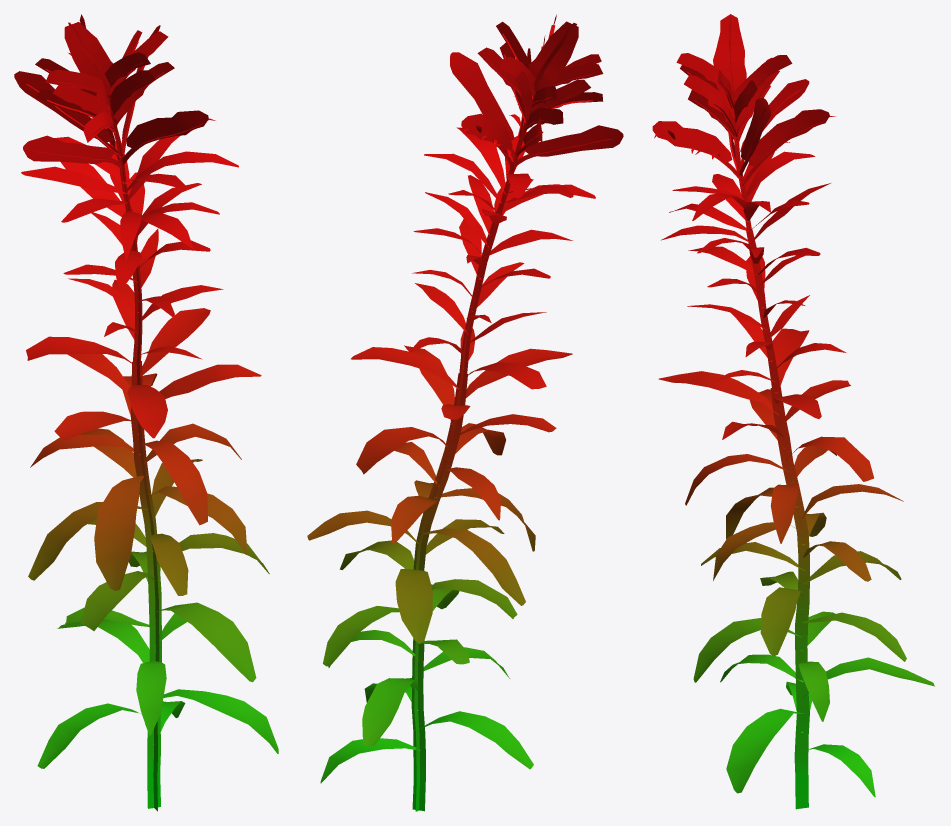
Rendered from Goldenrods_LOD3_Var2.fbx.
3 renders of one model, left to right at view 1: azimuth 30°, elevation 25°; view 2: azimuth 150°, elevation 25°; view 3: azimuth 270°, elevation 25°, orthographic. The views are drawn at different scales.
Parts seen in each view (by area): view 1: _ipni_Var2_LOD3; view 2: _ipni_Var2_LOD3; view 3: _ipni_Var2_LOD3.
Boxes of the visible parts, box(x1,y1,x2,y2) form: _ipni_Var2_LOD3: box(14, 14, 278, 811); _ipni_Var2_LOD3: box(307, 14, 623, 811); _ipni_Var2_LOD3: box(652, 14, 934, 809).
Bounding box in the file's own units: 48.07 × 142 × 49.14.
